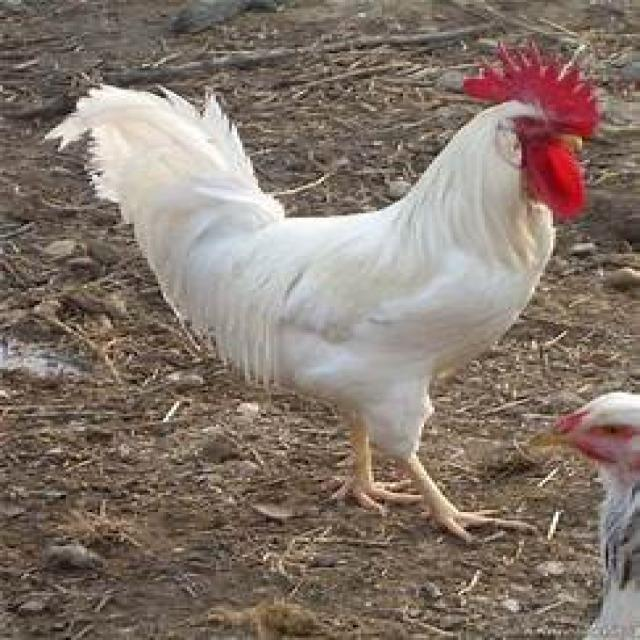hen: (42, 41, 606, 548)
